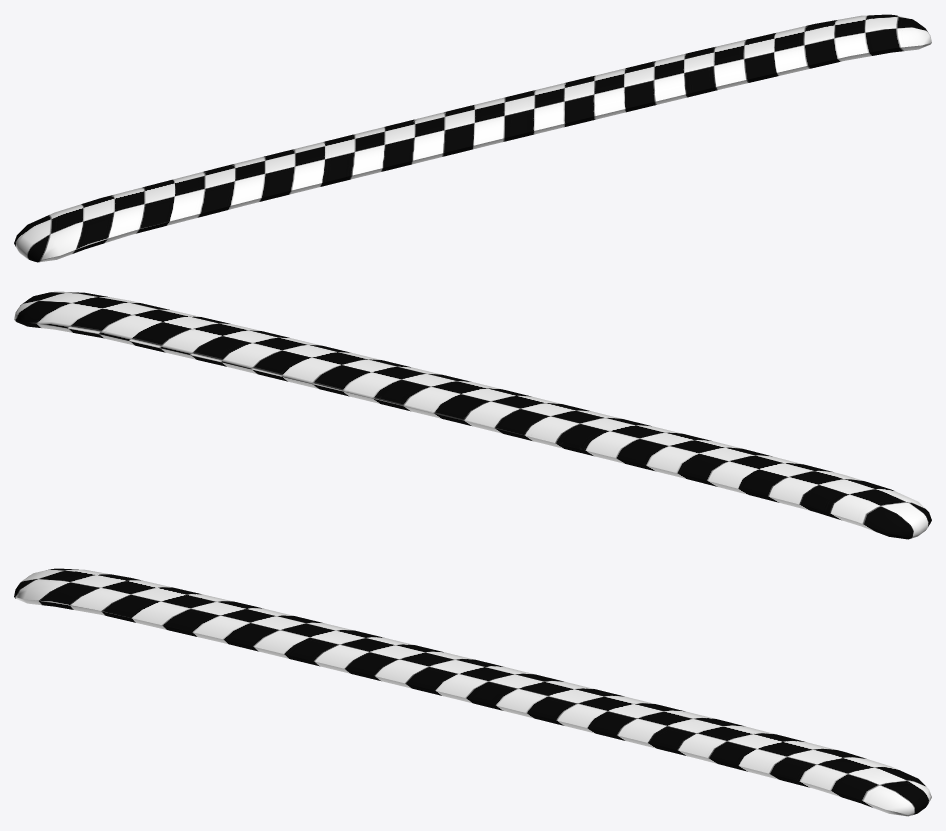
File: finishLine.fbx
3 views of the same model, one above another, from view 1: azimuth 30°, elevation 25°; view 2: azimuth 150°, elevation 25°; view 3: azimuth 330°, elevation 25° (orthographic).
Parts seen in each view (by area): view 1: finish line; view 2: finish line; view 3: finish line.
Boxes of the visible parts, x1,y1,x2,y2 form: finish line: [14, 14, 931, 262]; finish line: [14, 291, 931, 539]; finish line: [14, 568, 931, 816].
Bounding box in the file's own units: 533 × 19.18 × 39.01.
